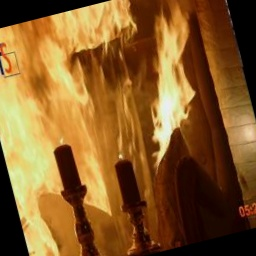fire: (0, 0, 237, 256)
